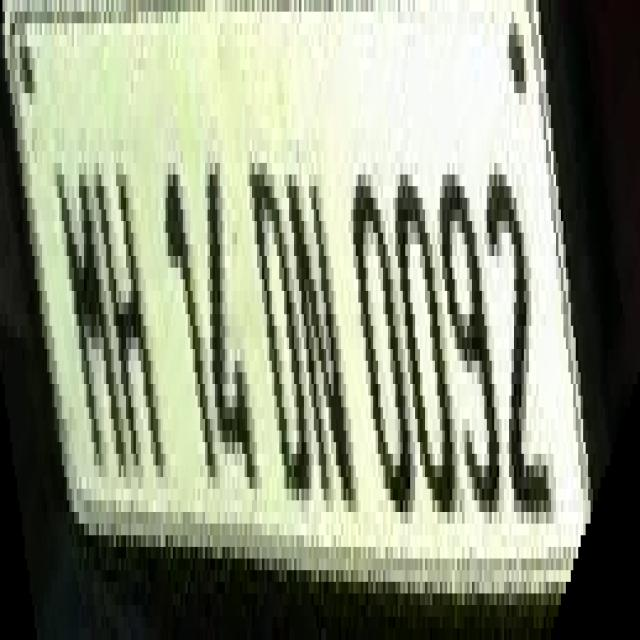license_plate: (22, 0, 640, 593)
